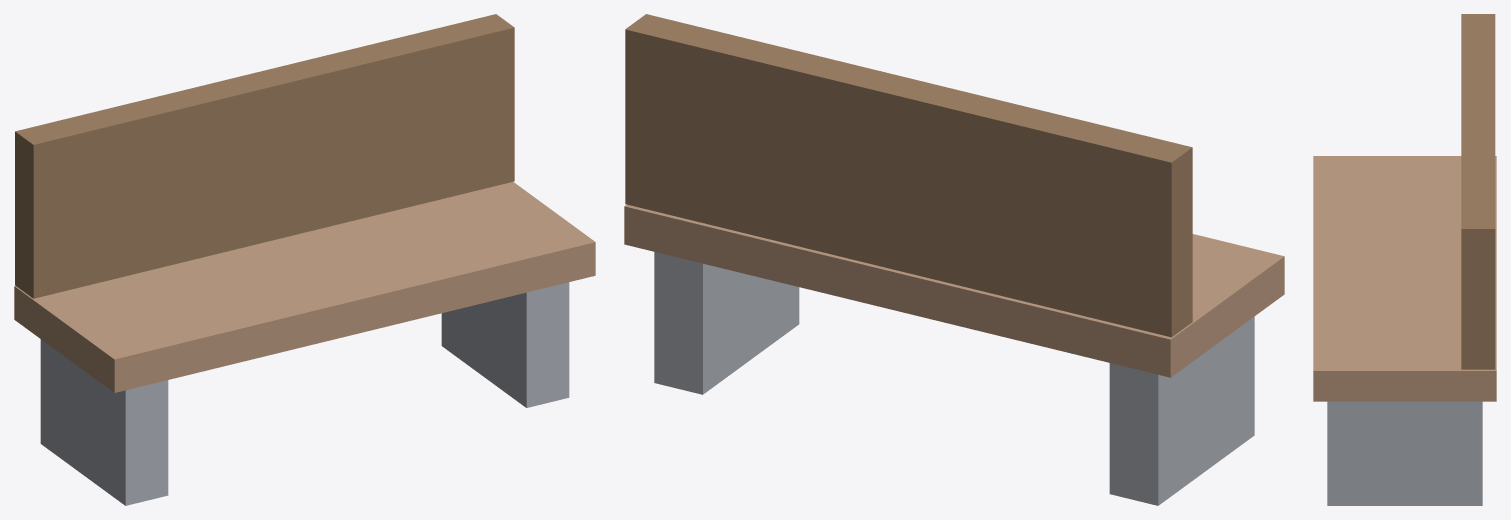
Rendered from prop-wooden-bench.e9d4fd30.glb.
3 renders of one model, left to right at view 1: azimuth 30°, elevation 25°; view 2: azimuth 150°, elevation 25°; view 3: azimuth 270°, elevation 25°, orthographic. The views are drawn at different scales.
Parts seen in each view (by area): view 1: prop-wooden-bench; view 2: prop-wooden-bench; view 3: prop-wooden-bench.
Part boxes in pixels (left/top/right/bottom): prop-wooden-bench: left=14, top=14, right=595, bottom=505; prop-wooden-bench: left=624, top=14, right=1284, bottom=505; prop-wooden-bench: left=1313, top=14, right=1496, bottom=505.
Bounding box in the file's own units: 1.8 × 1.12 × 0.65.
